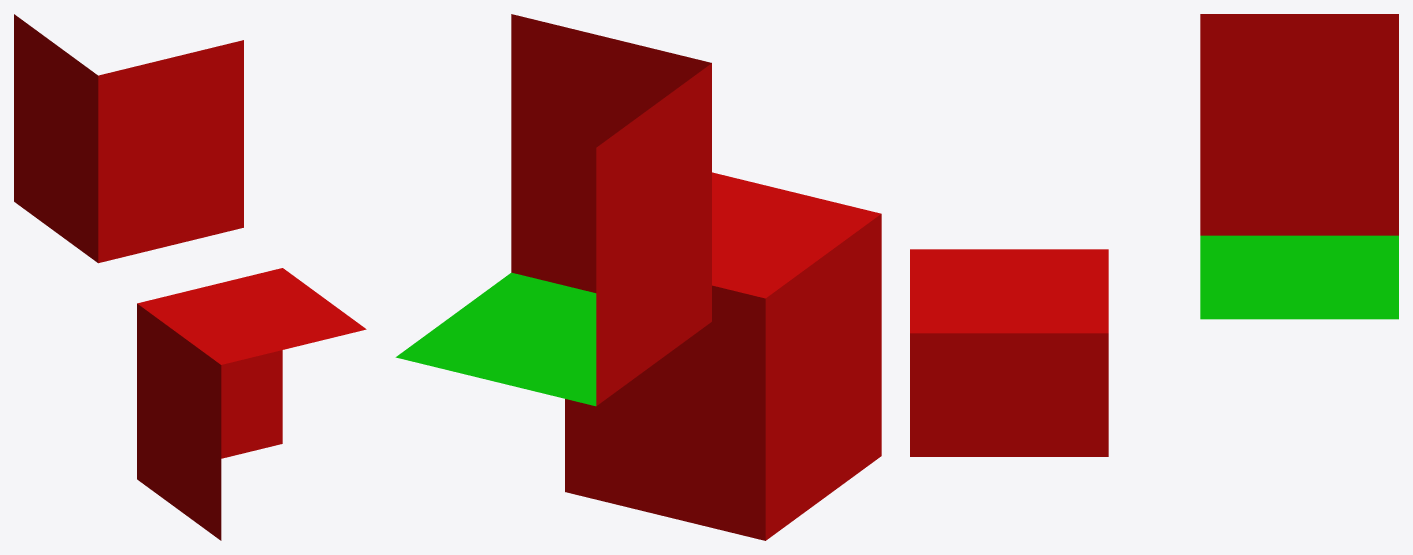
3 views of the same model, side by side, from view 1: azimuth 30°, elevation 25°; view 2: azimuth 150°, elevation 25°; view 3: azimuth 270°, elevation 25° (orthographic). The views are drawn at different scales.
Parts seen in each view (by area): view 1: None_W_E_E_A_A_A_A_A_None; view 2: None_W_E_E_A_A_A_A_A_None; view 3: None_W_E_E_A_A_A_A_A_None.
Boxes of the visible parts, left/top/right/bottom form: None_W_E_E_A_A_A_A_A_None: left=14, top=14, right=366, bottom=540; None_W_E_E_A_A_A_A_A_None: left=395, top=14, right=881, bottom=540; None_W_E_E_A_A_A_A_A_None: left=910, top=14, right=1398, bottom=456.
Bounding box in the file's own units: 40.62 × 100 × 100.
